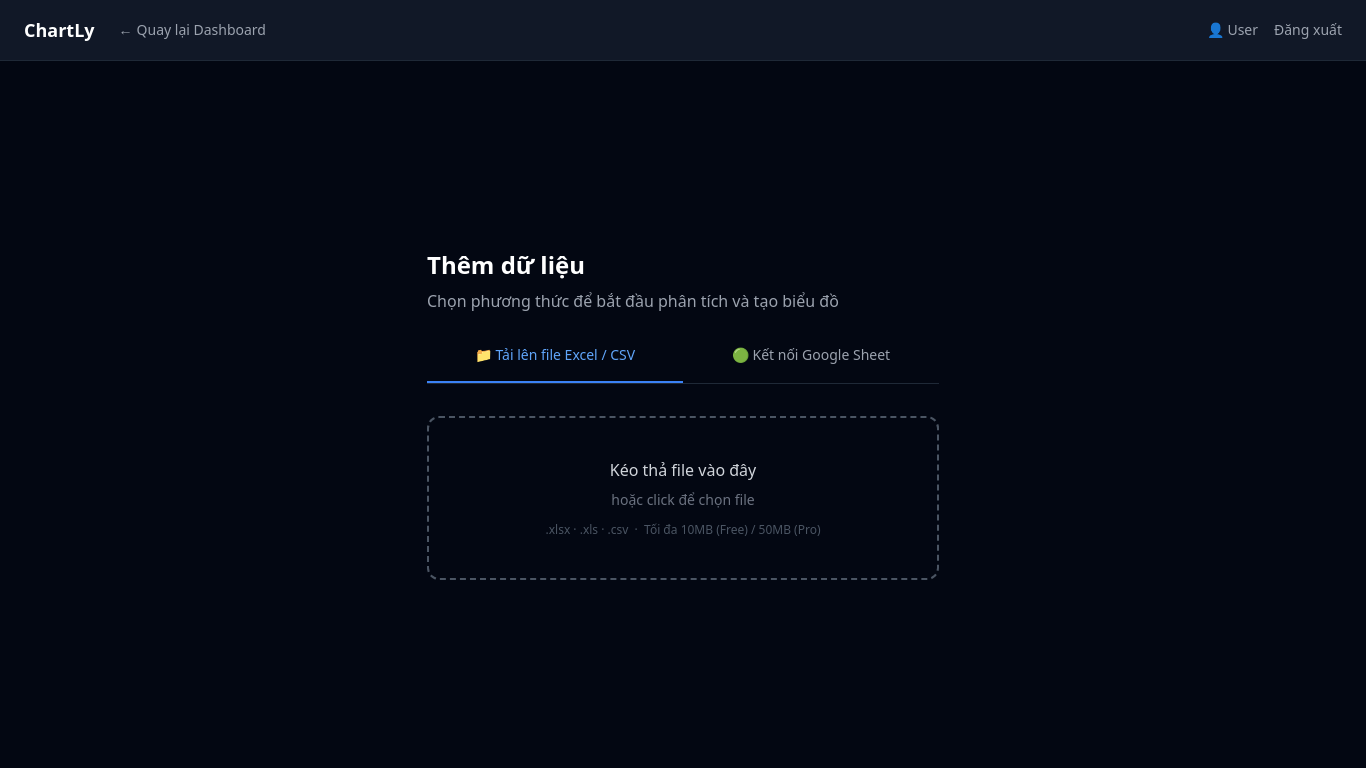
Test case: UploadPage › switches to Google Sheet tab and renders form
The width and height of the screenshot is (1366, 768).
Click the button "🟢 Kết nối Google Sheet". click: coordinates (811, 364)
box: x1=683 y1=345 x2=939 y2=383
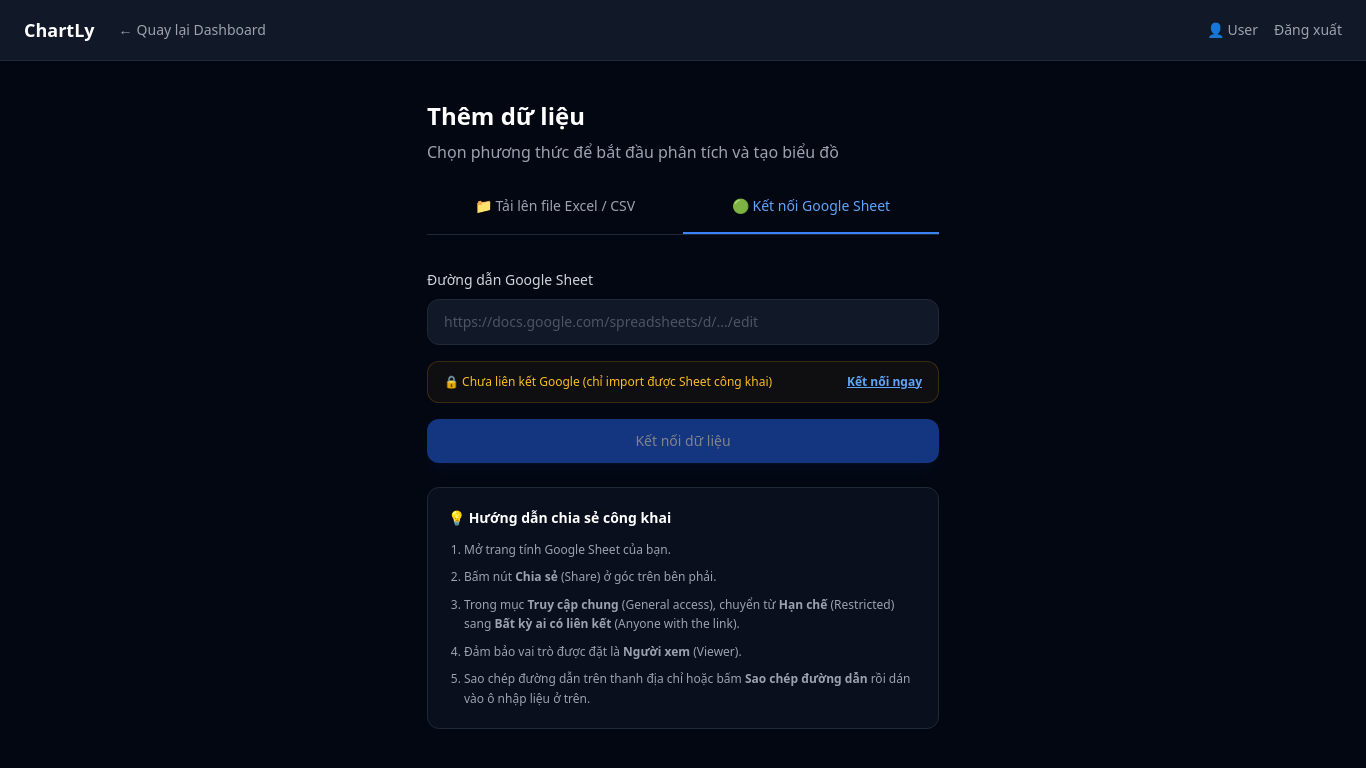
Check: the field with placeholder "https://docs.google.com/spreadsheets/d/.../edit" is shown, box x1=427 y1=299 x2=939 y2=345
Check: the text "Kết nối dữ liệu" is shown, box x1=636 y1=431 x2=731 y2=451
